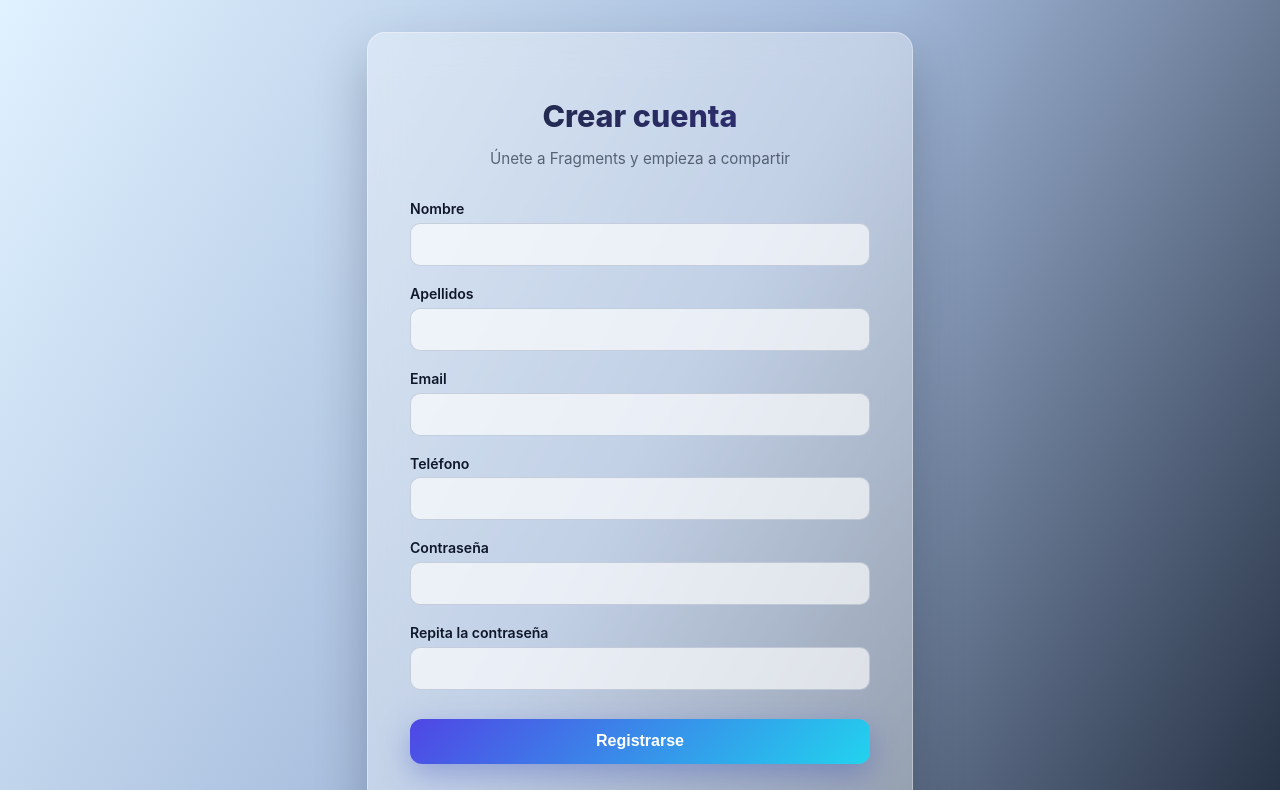
it: RegisterView › si el error no tiene response.message, muestra el message del error
Type "Pepe" into the field labelled "Nombre" at (640, 244), box x1=410 y1=223 x2=870 y2=266
Type "Pérez" into the field labelled "Apellidos" at (640, 329), box x1=410 y1=308 x2=870 y2=351
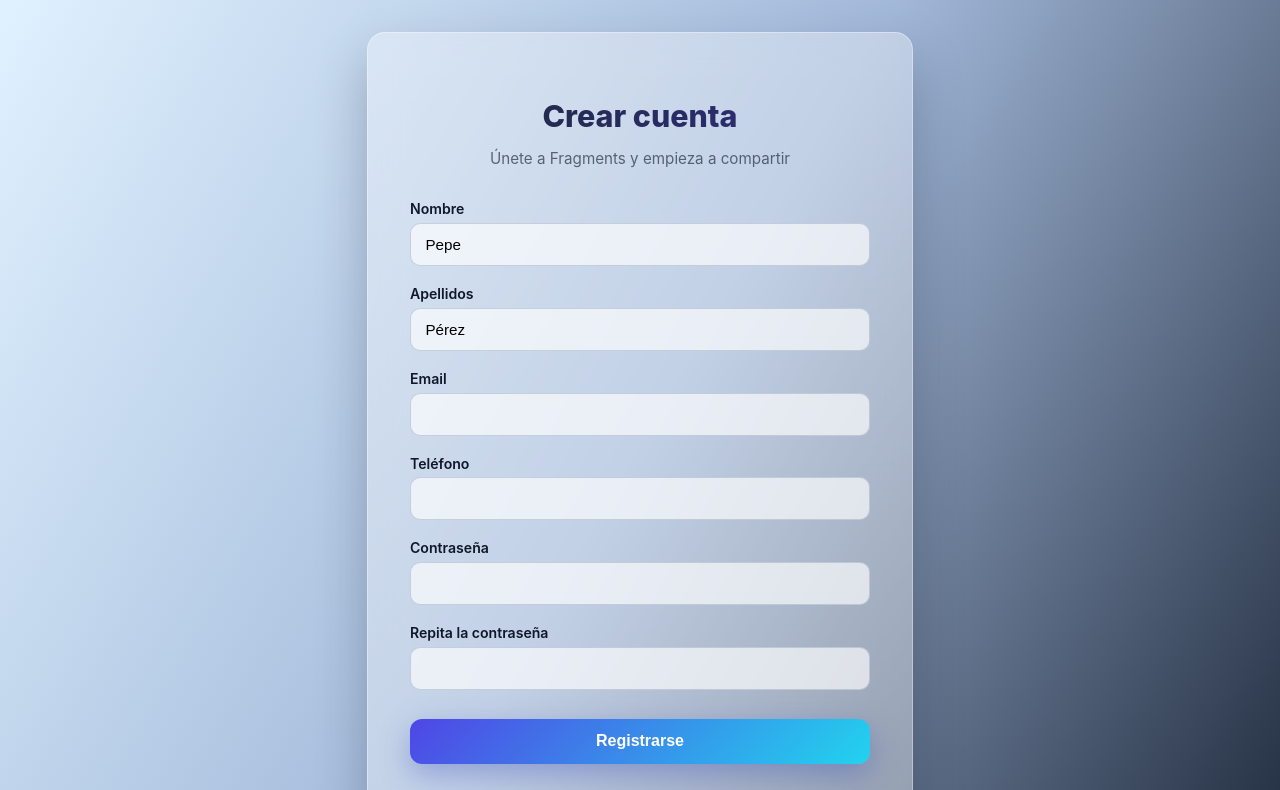
Type "test@test.com" into the field labelled "Email" at (640, 414), box x1=410 y1=392 x2=870 y2=436
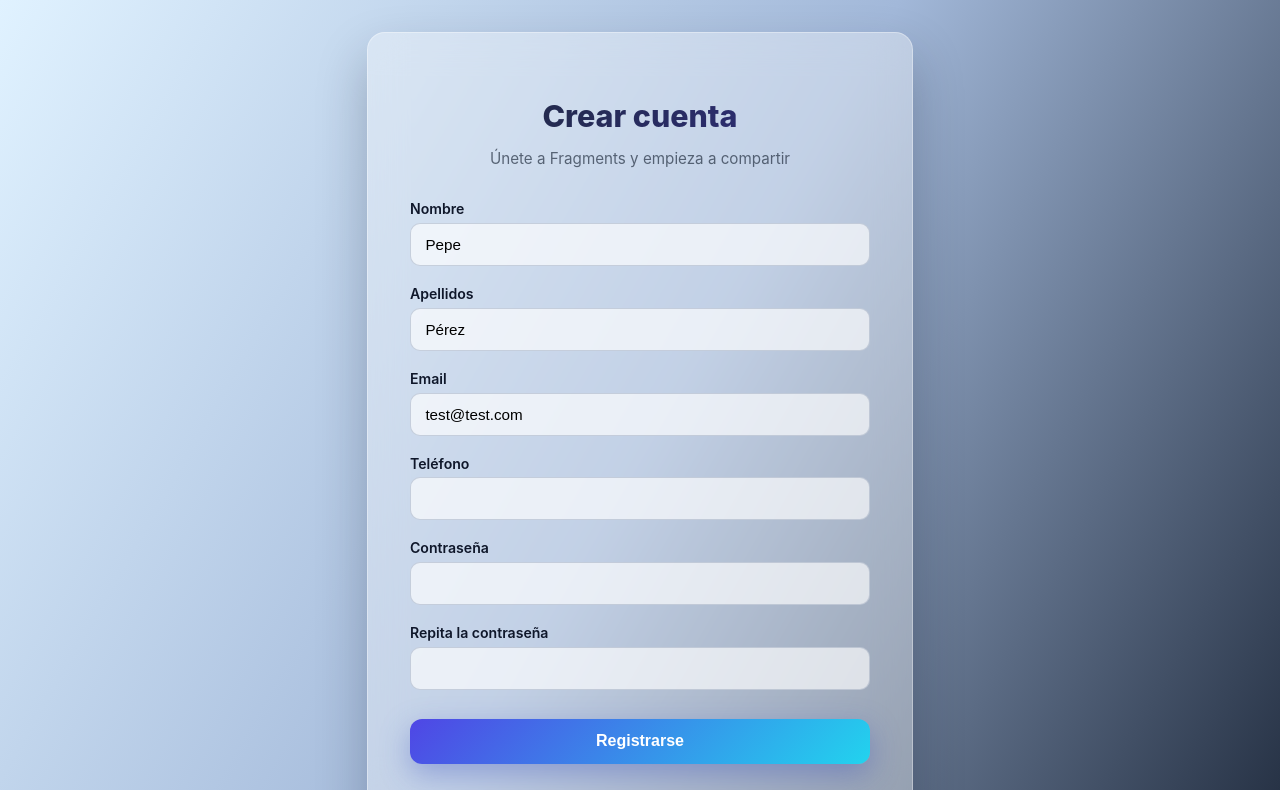
Type "666555444" into the field labelled "Teléfono" at (640, 499), box x1=410 y1=477 x2=870 y2=520
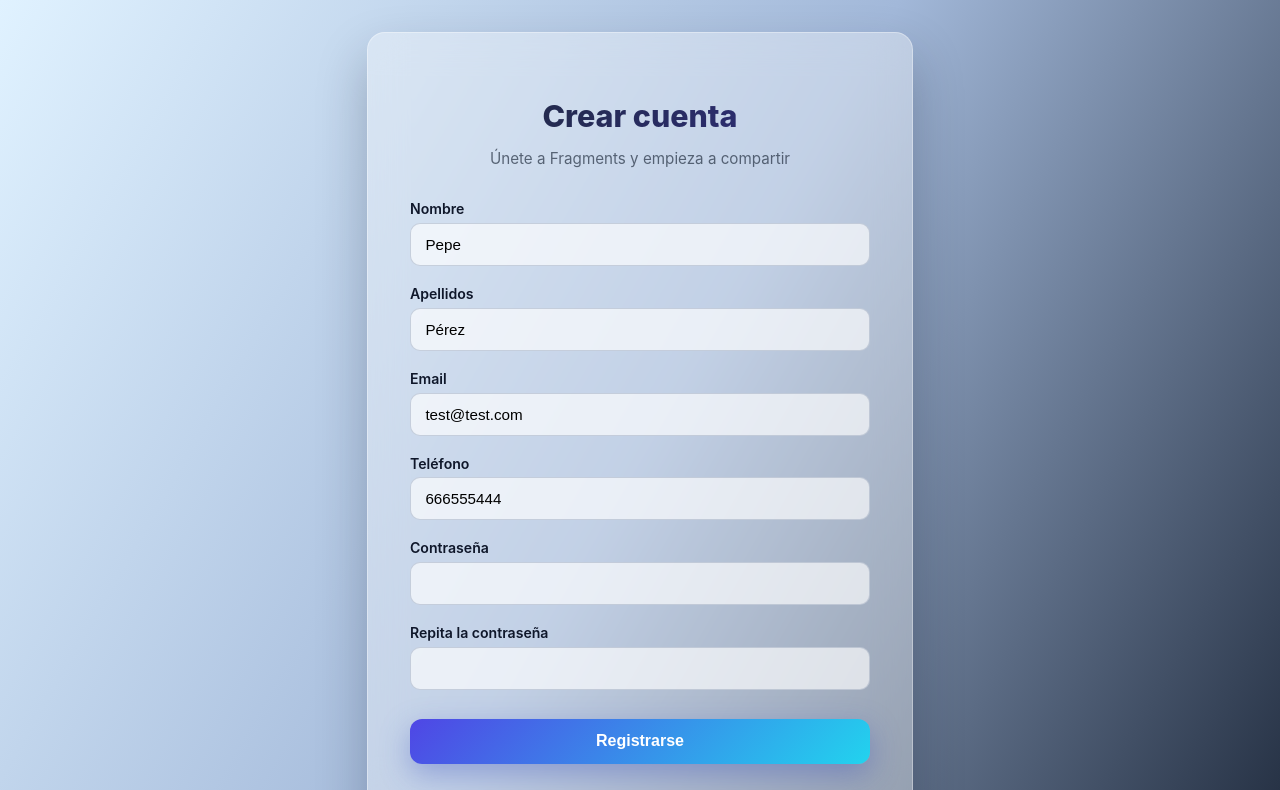
Type "123456" into the password field labelled "Contraseña" at (640, 584), box x1=410 y1=562 x2=870 y2=605
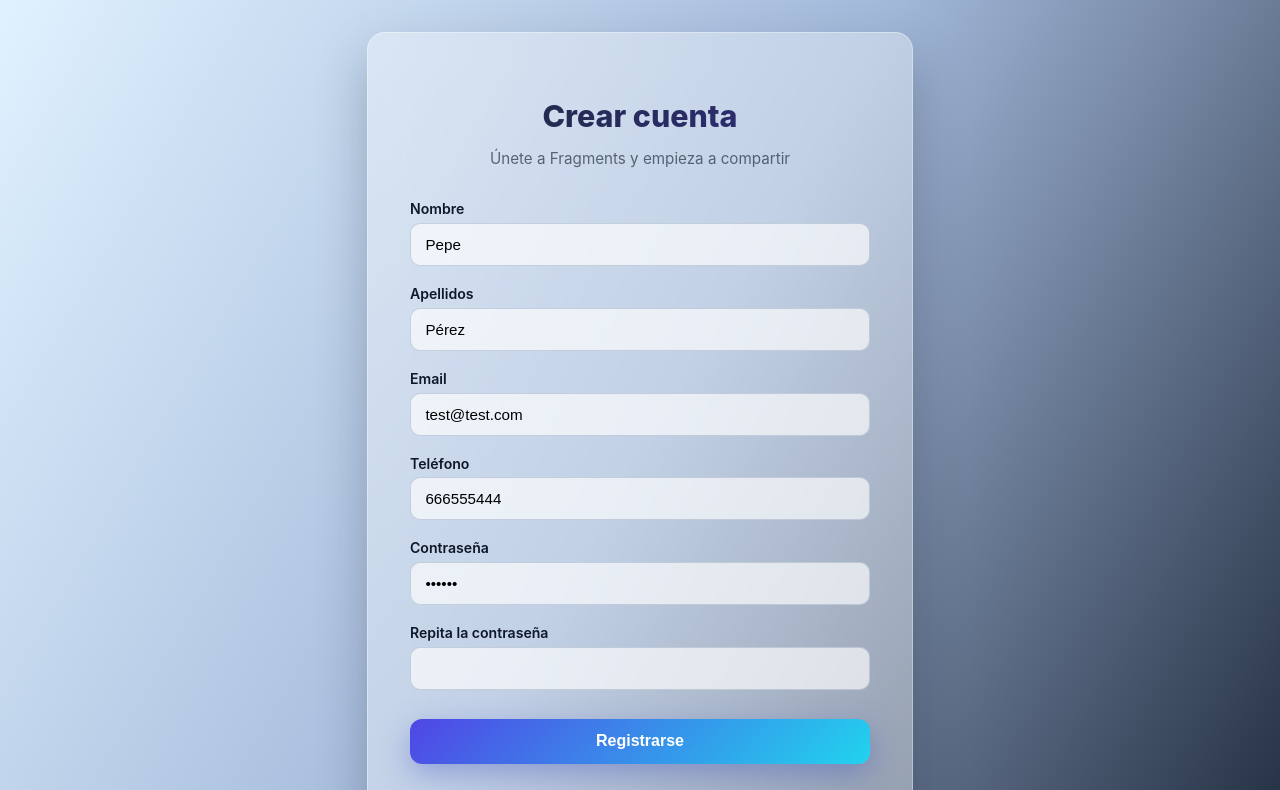
Type "123456" into the password field labelled "Repita la contraseña" at (640, 668), box x1=410 y1=647 x2=870 y2=690
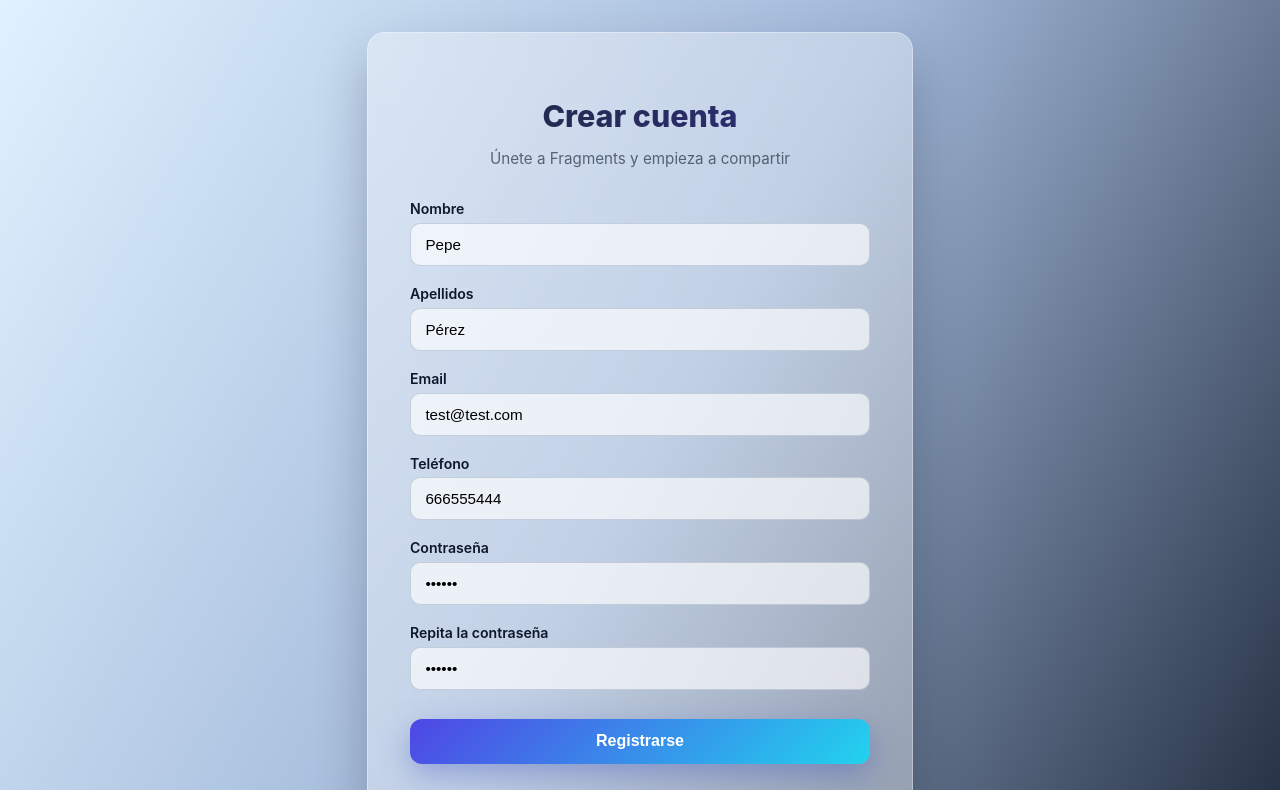
Submit the form, box x1=410 y1=200 x2=870 y2=764
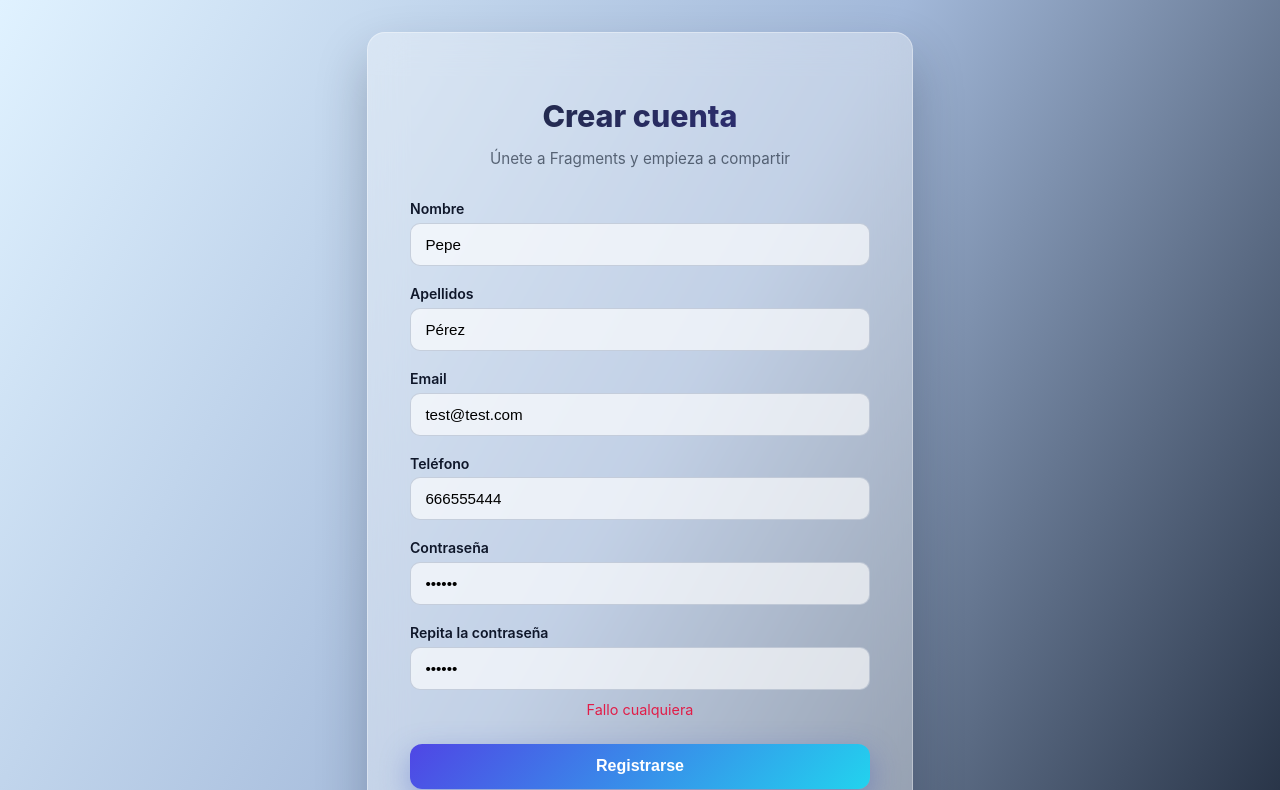
Result: the text "Fallo cualquiera" is shown at x1=587 y1=701 x2=694 y2=718
